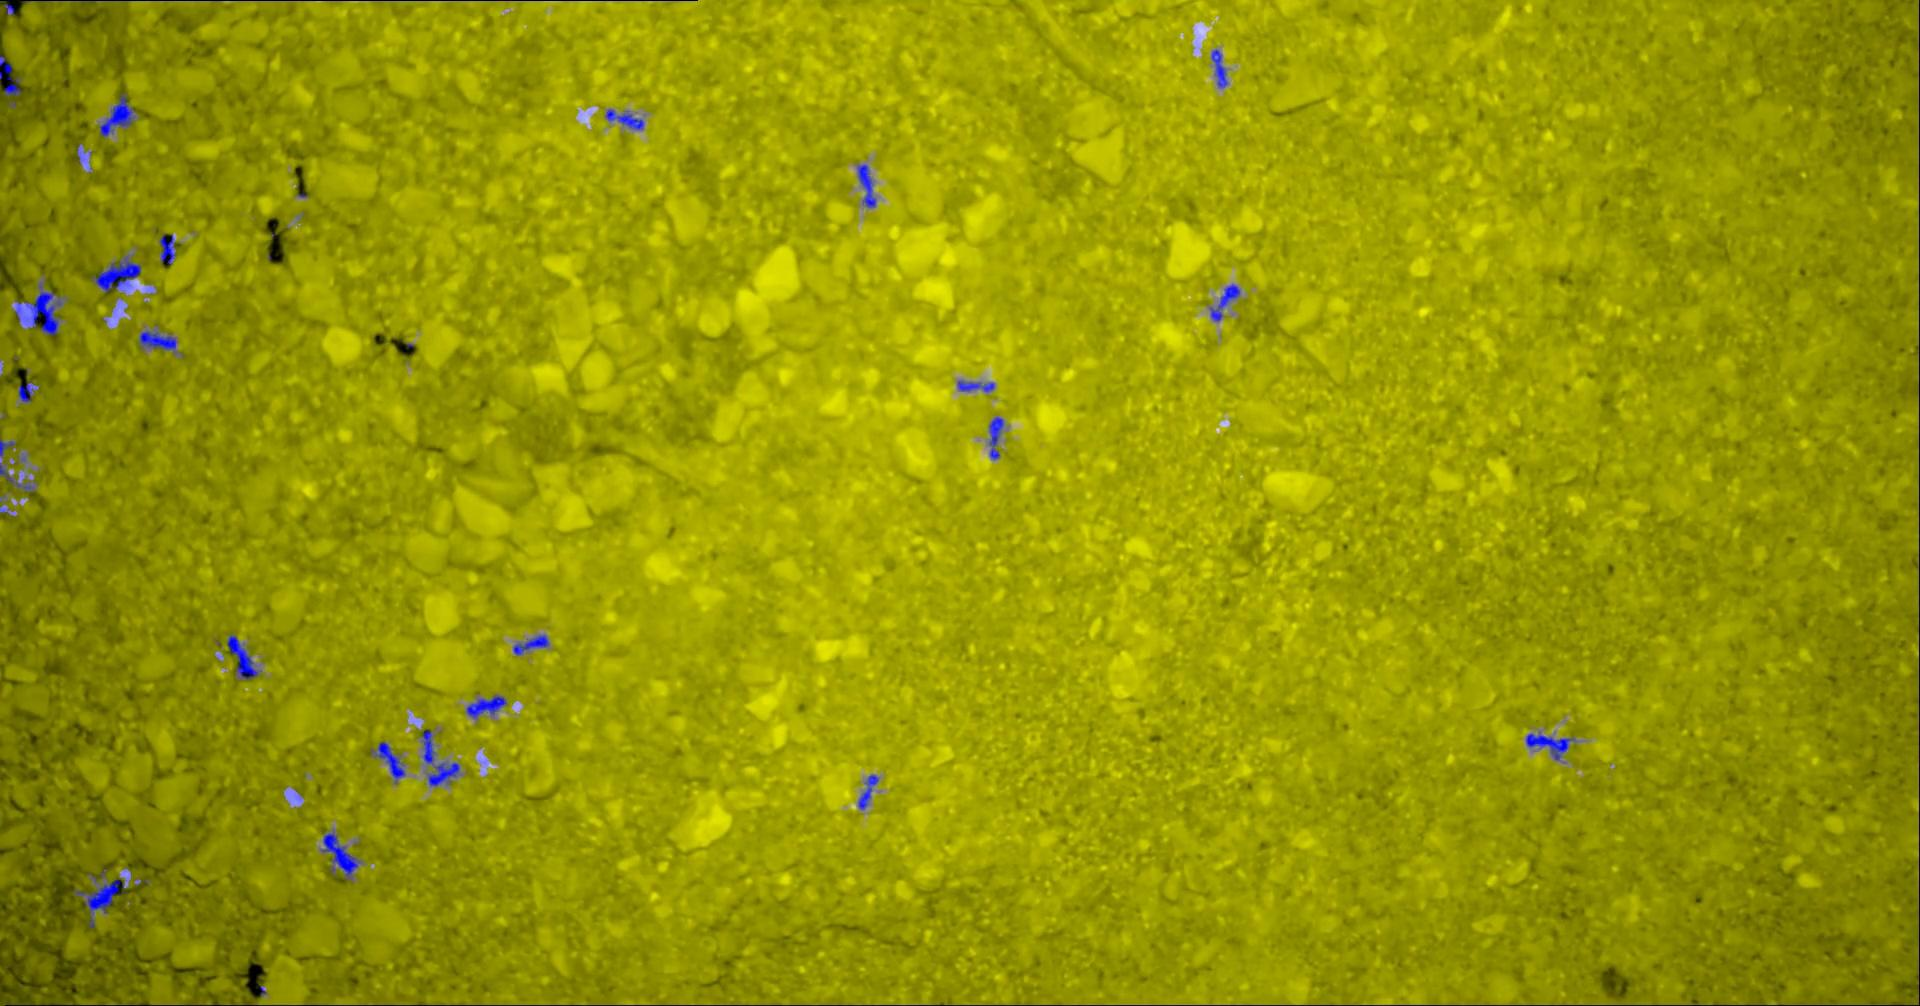ant: (72, 876, 124, 927), (23, 281, 61, 335), (320, 832, 361, 879), (91, 257, 140, 292), (99, 91, 135, 137), (226, 634, 260, 680), (370, 741, 405, 782), (1525, 733, 1575, 760), (1209, 285, 1239, 321), (0, 462, 34, 492), (466, 694, 505, 718), (0, 55, 20, 97), (138, 330, 175, 353), (512, 634, 549, 655), (604, 109, 643, 130), (857, 164, 875, 207), (427, 762, 458, 786), (857, 774, 877, 809), (988, 417, 1003, 459), (1211, 50, 1227, 86), (159, 234, 175, 263), (422, 729, 436, 763), (957, 380, 994, 391), (18, 381, 34, 401), (0, 439, 15, 457)
